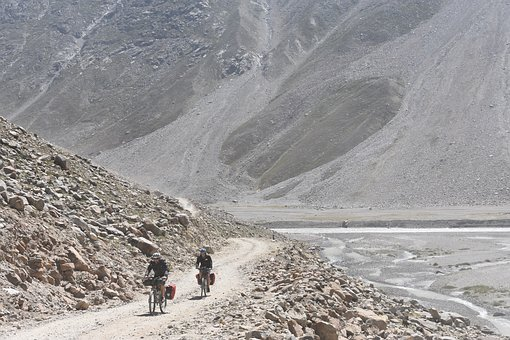bikerider: (136, 251, 181, 317), (190, 246, 221, 302)
